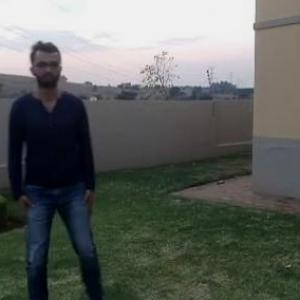follow: (24, 37, 105, 299)
